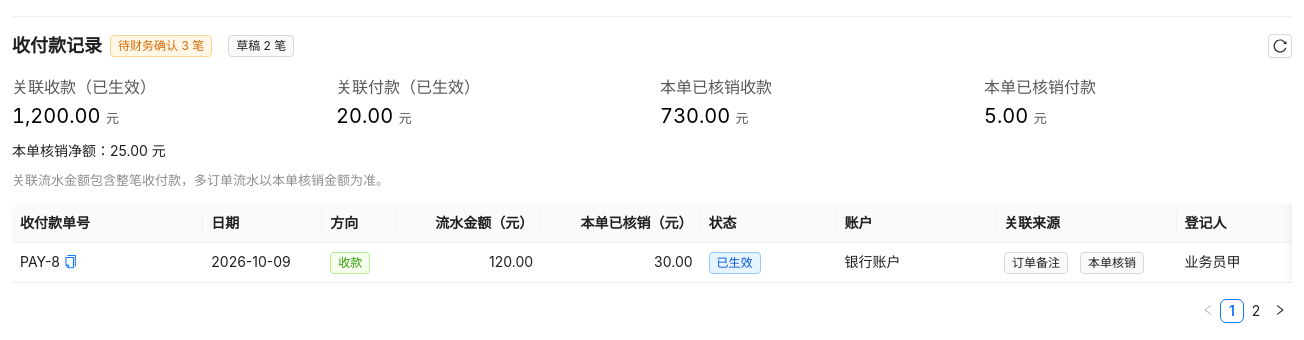
uses the full server summary on every page and clears the preceding page while loading
This screenshot has width=1304, height=340.
Expected: the text "PAY-8" is shown, [20,253,77,270]
Expected: the text "730.00" is shown, [660,104,730,128]
Click the list item titled "2" at (1256, 311), box [1244,299,1268,323]
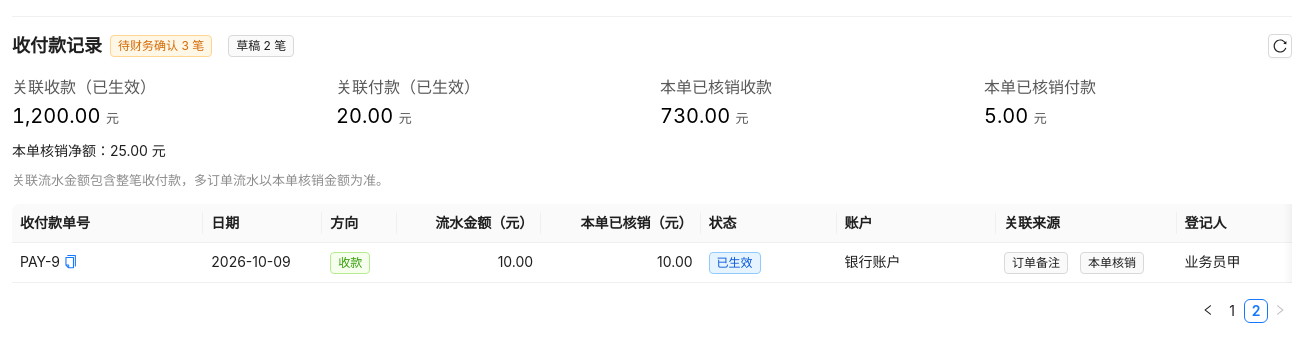
Expected: the text "730.00" is shown, [660,104,730,128]
Expected: the text "PAY-8" is gone
Expected: the text "PAY-9" is shown, [20,253,77,270]
